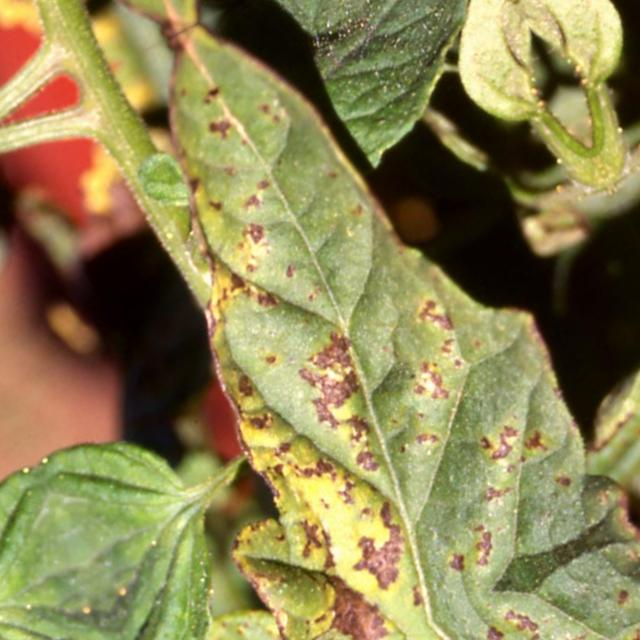Tomato leaf bacterial spot: (0, 0, 640, 640), (26, 368, 327, 640)
